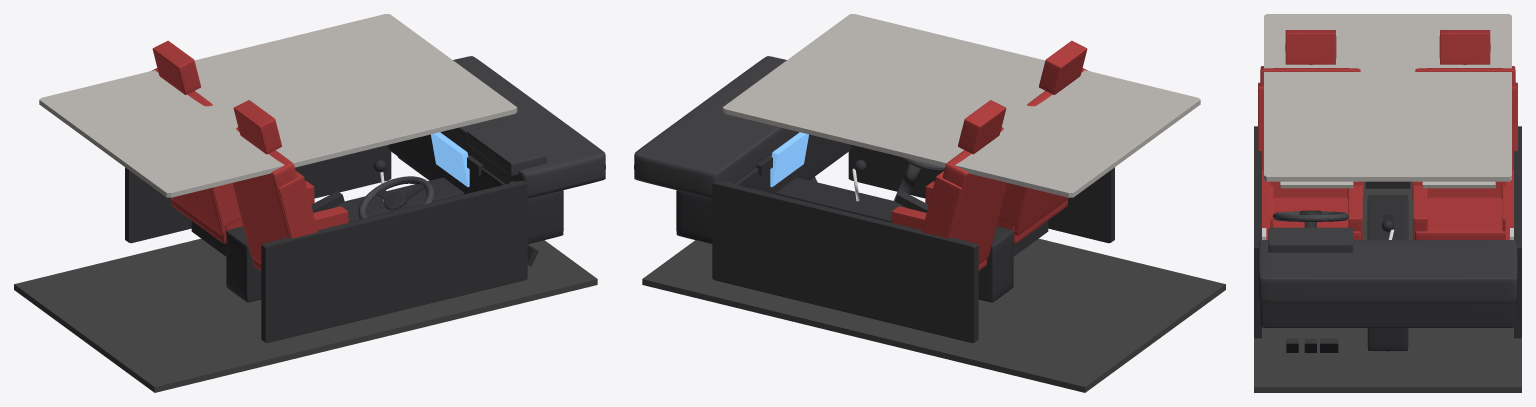
The model's file is interior_coupe.glb.
3 views of the same model, side by side, from view 1: azimuth 30°, elevation 25°; view 2: azimuth 150°, elevation 25°; view 3: azimuth 270°, elevation 25° (orthographic). The views are drawn at different scales.
Parts seen in each view (by area): view 1: Cabin, SteeringWheel; view 2: Cabin; view 3: Cabin, SteeringWheel.
Part boxes in pixels (x1,y1,x2,y2): Cabin: (14,14,605,392); SteeringWheel: (358,176,433,219); Cabin: (634,14,1225,392); Cabin: (1254,14,1521,392); SteeringWheel: (1272,210,1348,221).
Bounding box in the file's own units: 2.47 × 1.18 × 1.32.
